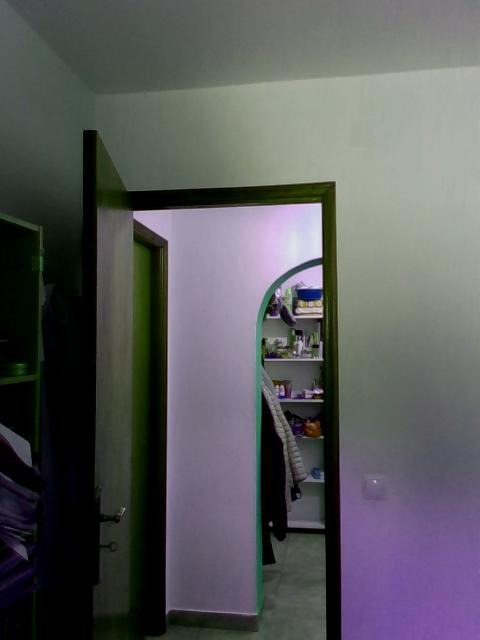open_door: (117, 178, 344, 639)
